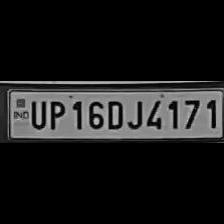1: (200, 96, 220, 130), (162, 96, 180, 130), (66, 97, 84, 130)
4: (142, 96, 164, 130)
6: (84, 97, 104, 130)
7: (178, 96, 200, 130)
D: (104, 96, 124, 130)
J: (124, 96, 144, 130)
P: (45, 97, 65, 130)
U: (28, 97, 46, 129)
